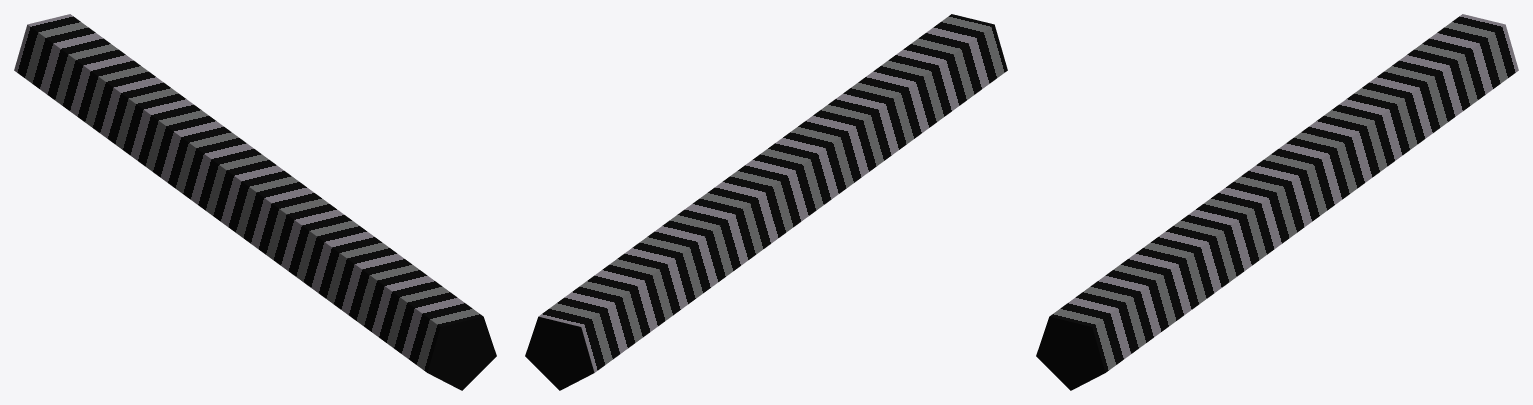
The model's file is TelephoneWire.glb.
The picture shows the model from 3 angles, left to right: view 1: azimuth 30°, elevation 25°; view 2: azimuth 150°, elevation 25°; view 3: azimuth 330°, elevation 25°; orthographic projection.
Parts seen in each view (by area): view 1: Cylinder; view 2: Cylinder; view 3: Cylinder.
Part boxes in pixels (box(x1,y1,x2,y2)): Cylinder: box(14, 14, 496, 390); Cylinder: box(525, 14, 1007, 390); Cylinder: box(1036, 14, 1518, 390).
Bounding box in the file's own units: 1.9 × 1.81 × 19.6.
Materials: 1 (1 with a texture image).
